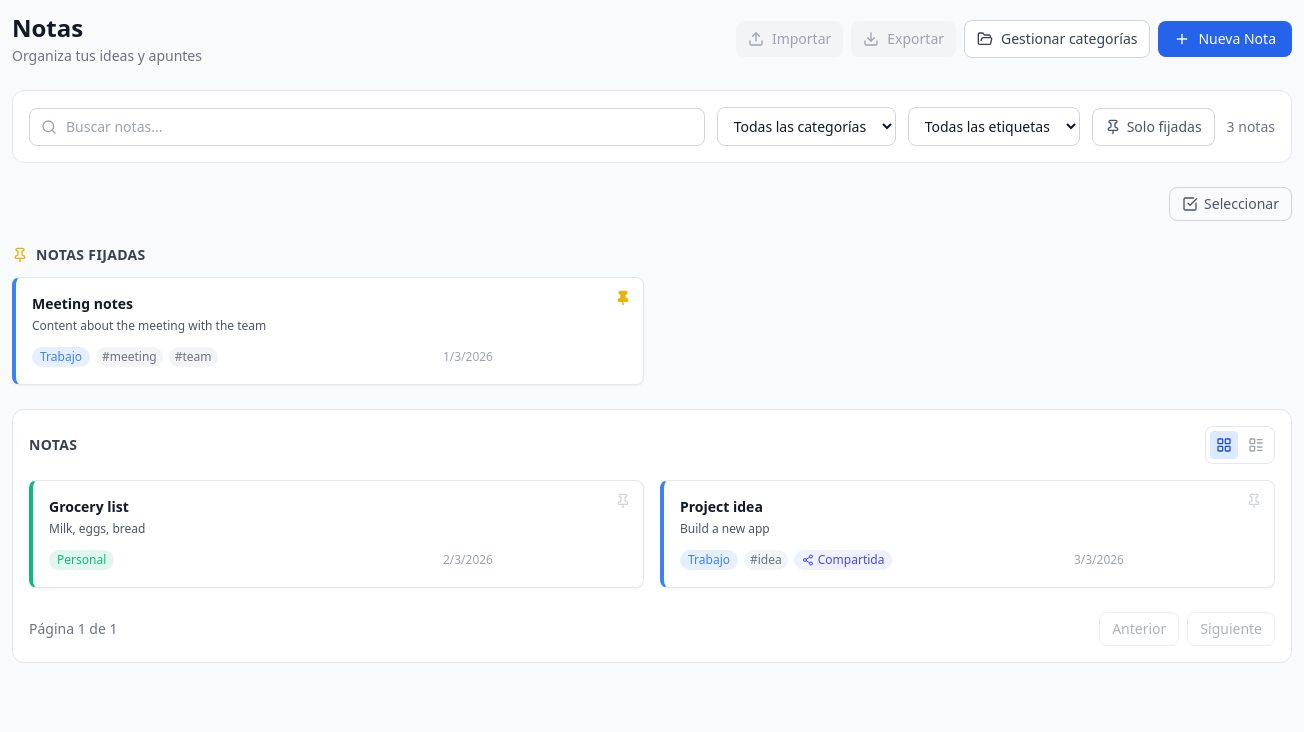
NotesPage › el filtro pinned_only oculta la sección Notas fijadas separada
Expected: the heading "Notas fijadas" is shown, [36,245,146,265]
// Toggle pinned only
Click the button "Solo fijadas" at (1153, 126), box [1092,108,1215,146]
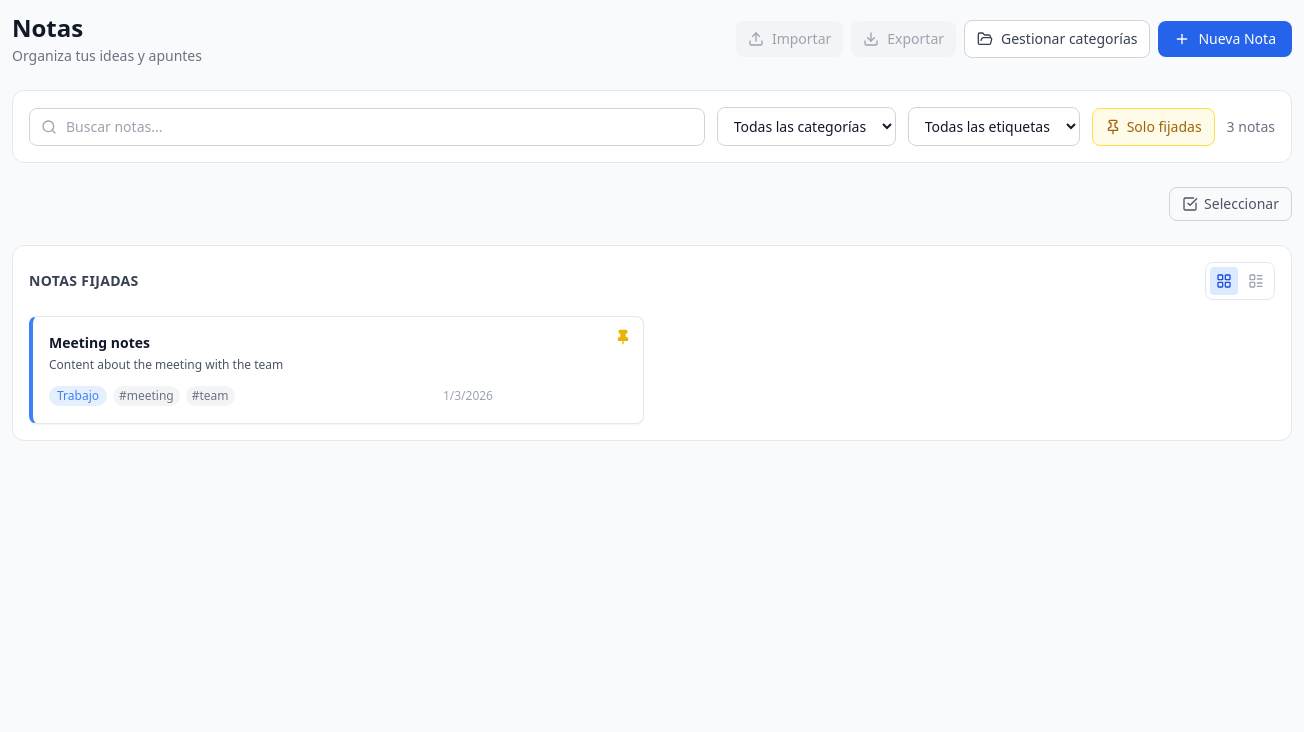
Now the number of headings "Notas fijadas" is 1, box [29,271,139,291]
